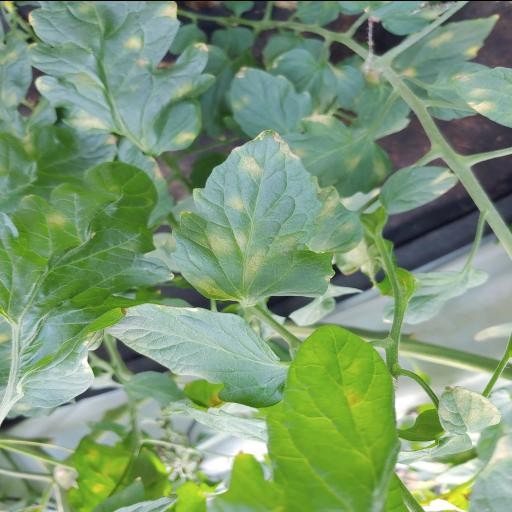disease_tomato: (0, 160, 160, 376), (168, 128, 338, 304), (26, 0, 216, 154), (377, 165, 461, 214)
